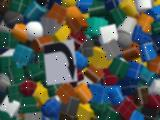Right: (43, 39, 77, 85)
